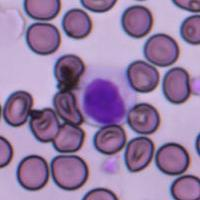L: (73, 62, 132, 127)
